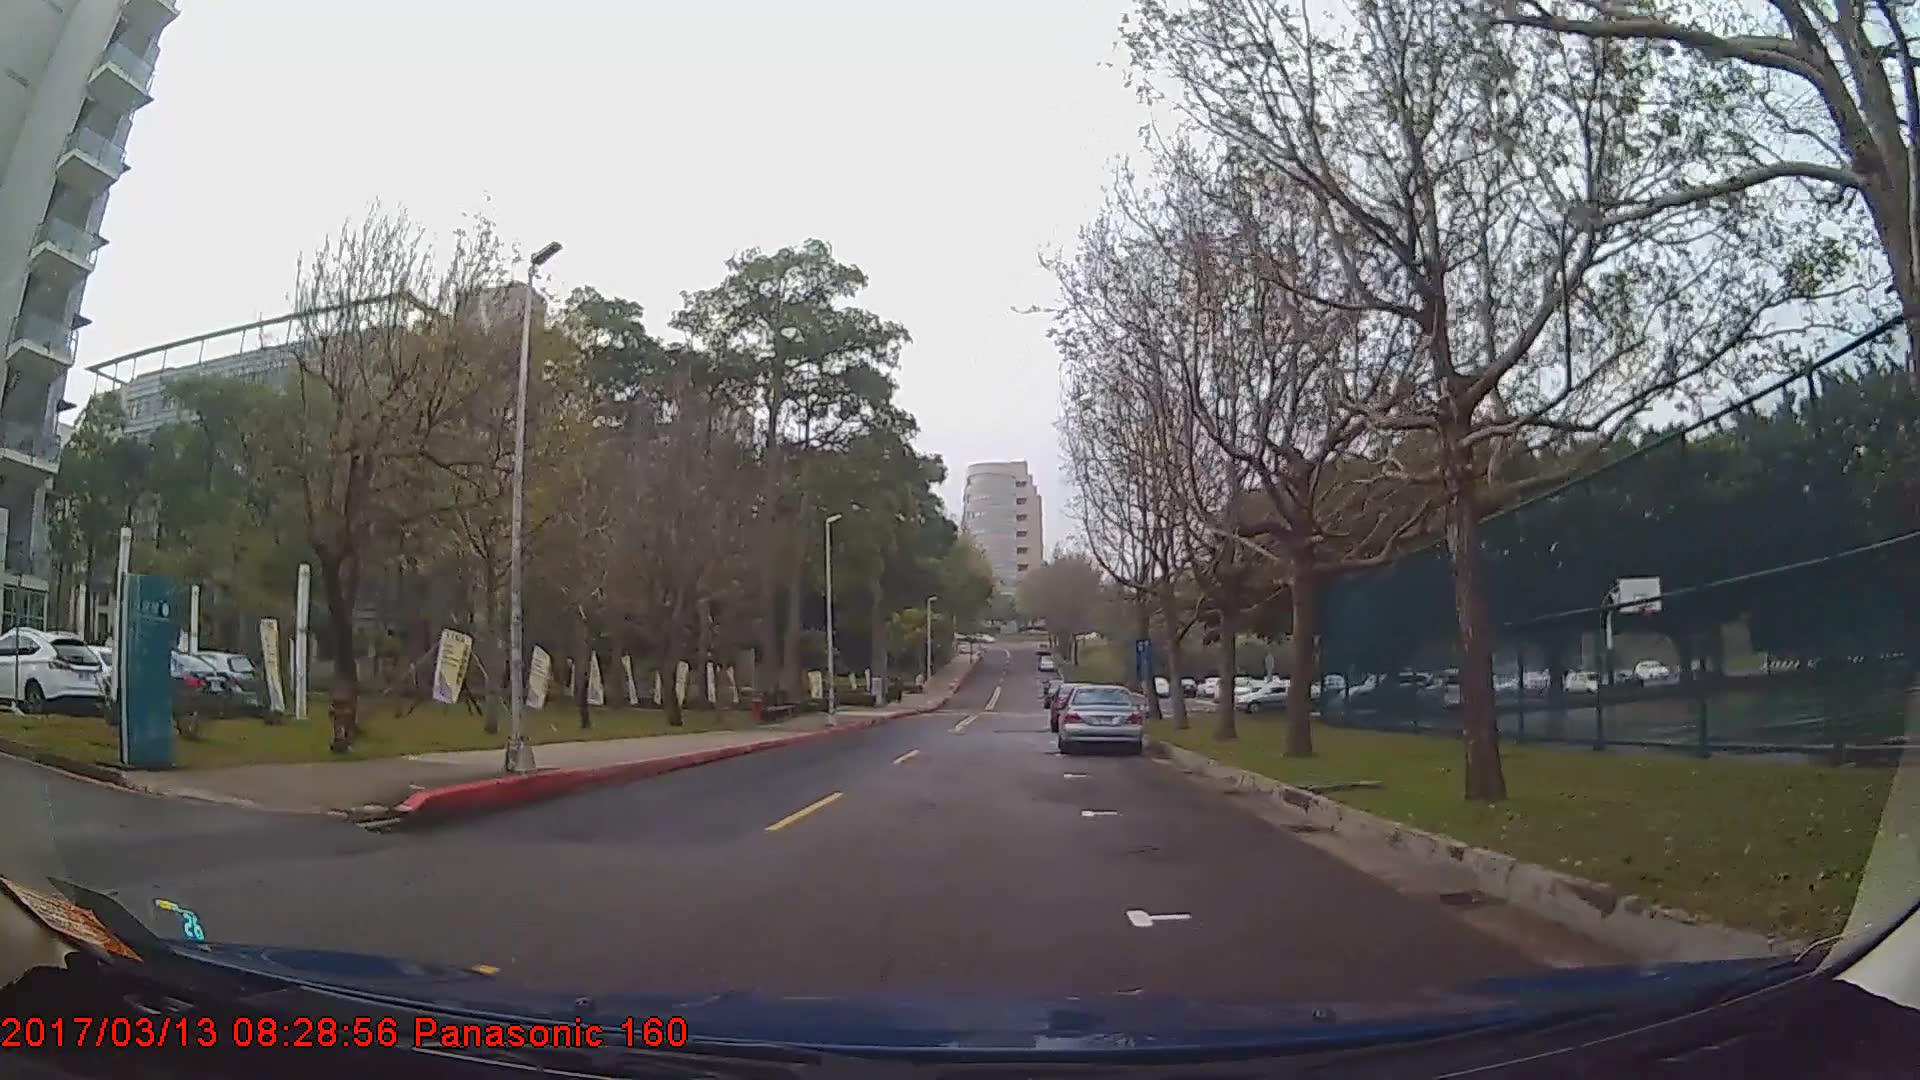vehicle: (0, 624, 105, 713), (41, 640, 154, 713), (1058, 682, 1145, 754), (183, 647, 264, 713), (1234, 680, 1320, 713)
